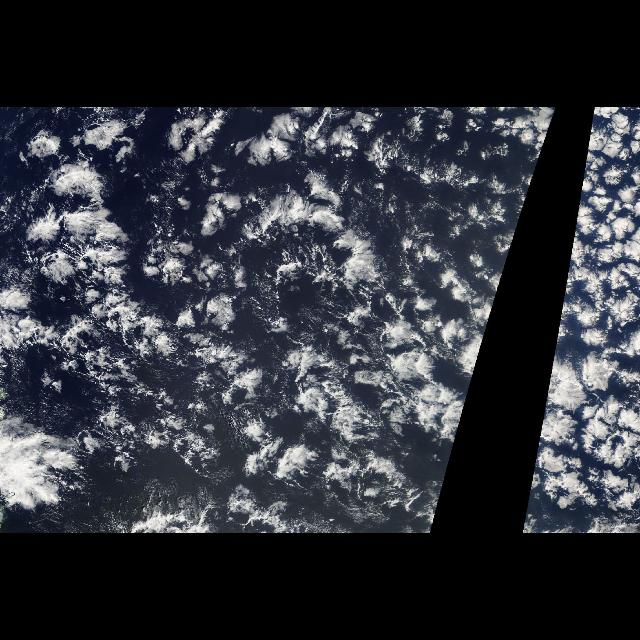Fish: (9, 130, 177, 380)
Flower: (240, 111, 556, 523), (14, 131, 200, 395), (524, 111, 632, 523)
